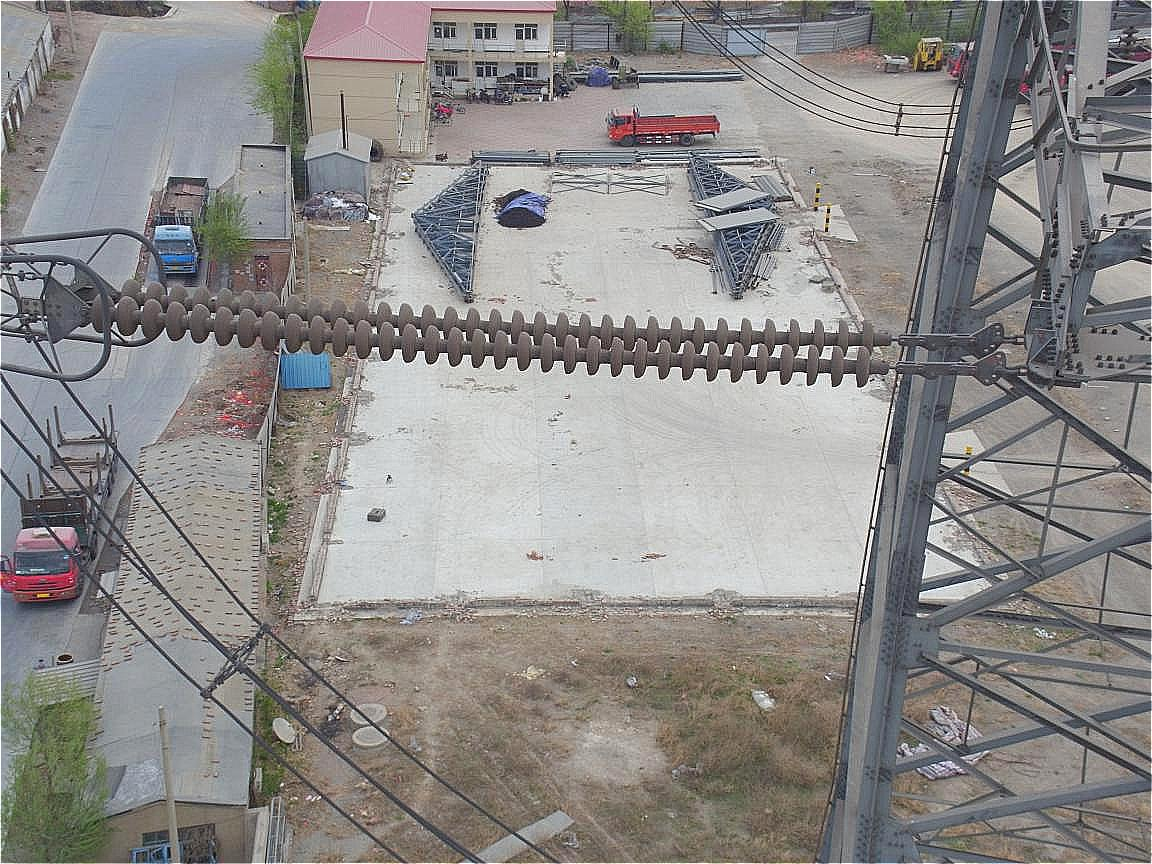insultor1: (89, 279, 879, 387)
